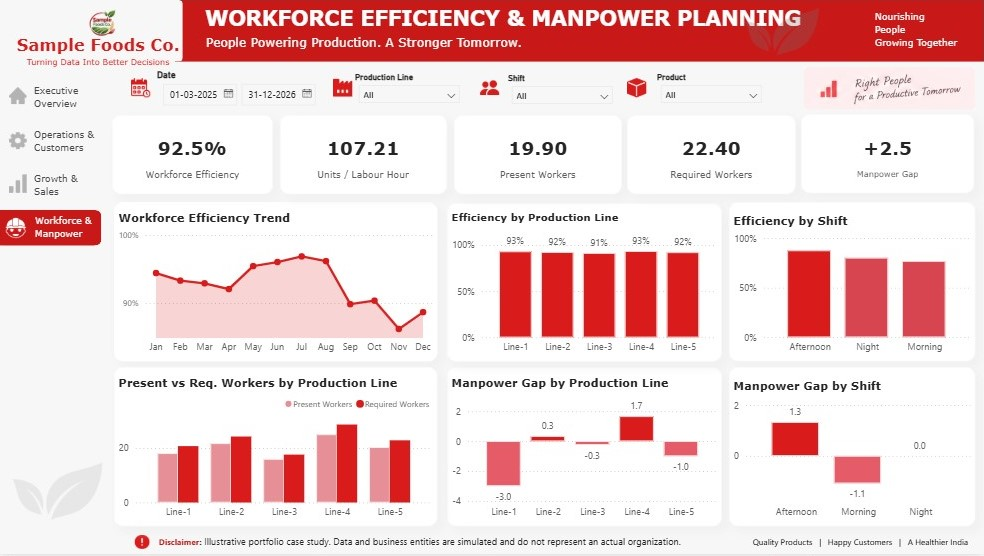

The dashboard page shown, as its layout file describes it:
{"tool":"powerbi","page":{"name":"WORKFORCE EFFICIENCY & MANPOWER PLANNING","canvas":[1280,720],"ordinal":3},"visuals":[{"type":"textbox","title":"Shanti Foods","box":[10,37.5,239.5,39.9],"z":0,"group":"g10"},{"type":"slicer","title":"Date","fields":{"Values":["Date_Table.Date"]},"box":[206.4,91.3,230,51.8],"z":0,"group":"g7"},{"type":"slicer","title":"Production Line","fields":{"Values":["Workforce_Data.Production_Line"]},"box":[463.6,92.9,141.4,50.7],"z":0,"group":"g6"},{"type":"slicer","title":"Product","fields":{"Values":["Workforce_Data.Product_Name"]},"box":[856.4,92.9,141.4,50.7],"z":0,"group":"g8"},{"type":"slicer","title":"Shift","fields":{"Values":["Workforce_Data.Shift"]},"box":[662.9,94.3,141.4,50.7],"z":0,"group":"g5"},{"type":"shape","title":"Side_Button_1_Cover","box":[0,103,125.1,46],"z":0,"group":"g3"},{"type":"shape","title":"Side_Button_1_Cover","box":[0,160.9,125.1,46],"z":0,"group":"g2"},{"type":"shape","title":"Side_Button_1_Cover","box":[0,216.8,125.1,46],"z":0,"group":"g1"},{"type":"shape","title":"Side_Button_1_Cover","box":[0,272.7,125.1,46],"z":0,"group":"g9"},{"type":"clusteredColumnChart","title":"Manpower Gap by Production Line","fields":{"Category":["Workforce_Data.Production_Line"],"Y":["Complaints_Returns.Avg Manpower Gap"]},"box":[583.3,476.7,356.7,206.7],"z":0},{"type":"textbox","box":[204,688.7,792,29.3],"z":0,"group":"g4"},{"type":"shape","title":"Tittle_L","box":[229.3,0,1050.7,80],"z":1000},{"type":"textbox","title":"Tagline","box":[10,62.3,239.5,30.3],"z":1000,"group":"g10"},{"type":"shape","title":"Side_Button_1","box":[0,102.8,134.4,46.1],"z":1000,"group":"g3"},{"type":"shape","title":"Side_Button_1","box":[0,160.7,134.4,46.1],"z":1000,"group":"g2"},{"type":"shape","title":"Side_Button_1","box":[0,216.6,134.4,46.1],"z":1000,"group":"g1"},{"type":"shape","title":"Side_Button_1","box":[0,272.5,134.4,46.1],"z":1000,"group":"g9"},{"type":"image","box":[163.4,695.8,46.9,18.5],"z":1000,"group":"g4"},{"type":"shape","title":"Title_S","box":[0,0,240,80],"z":2000},{"type":"image","title":"Logoo","box":[110,10,50.4,36.8],"z":2000,"group":"g10"},{"type":"image","title":"Homo_logo","box":[14,105.8,22.8,38],"z":2000,"group":"g3"},{"type":"image","title":"Setting_logo","box":[14,163.7,22.8,38],"z":2000,"group":"g2"},{"type":"image","title":"Signal_logo","box":[14,219.6,22.8,38],"z":2000,"group":"g1"},{"type":"image","title":"Signal_logo","box":[9.3,270.4,27.9,52.1],"z":2000,"group":"g9"},{"type":"textbox","title":"Exec_text","box":[47.3,108.5,69.7,35.2],"z":3000,"group":"g3"},{"type":"textbox","title":"Ops/ customer text","box":[46.9,165.2,79.5,36.4],"z":3000,"group":"g2"},{"type":"group","id":"g1","title":"Side Button 3","box":[0,216.6,134.5,46.2],"z":3000},{"type":"textbox","title":"Growth/Sales text","box":[47.3,222.3,69.7,35.2],"z":3000,"group":"g1"},{"type":"textbox","title":"Growth/Sales text","box":[47.9,277.3,87.1,35],"z":3000,"group":"g9"},{"type":"group","id":"g2","title":"Side Button 2","box":[0,160.7,134.1,46.2],"z":4000},{"type":"group","id":"g3","title":"Side Button 1","box":[0,102.8,134.4,46.2],"z":5000},{"type":"textbox","title":"Header Tagline 1","box":[268.3,6.7,865,41.7],"z":6000},{"type":"textbox","title":"Header Title 1","box":[270,45.6,523.3,22.2],"z":7000},{"type":"textbox","title":"Header Sideline 1","box":[1138.7,12,130,55.3],"z":8000},{"type":"cardVisual","title":"Total Production","fields":{"Data":["Complaints_Returns.New_Workforce Efficiency %"]},"box":[147.5,149,209.2,103],"z":9000},{"type":"lineChart","title":"Workforce Efficiency Trend","fields":{"Category":["Date_Table.Month_Short"],"Y":["Complaints_Returns.Workforce Efficiency %"]},"box":[150,262.2,420,206.7],"z":10000},{"type":"clusteredColumnChart","title":"Efficiency by Production Line","fields":{"Category":["Workforce_Data.Production_Line"],"Y":["Complaints_Returns.New_Workforce Efficiency %"]},"box":[583.3,263.3,356.7,205.6],"z":11000},{"type":"cardVisual","title":"Rejection Rate","fields":{"Data":["Complaints_Returns.Units per Labour Hour"]},"box":[366.7,149,216.7,103],"z":12000},{"type":"cardVisual","title":"Total Inventory","fields":{"Data":["Complaints_Returns.Avg Present Workers"]},"box":[591.7,149,218.3,103],"z":13000},{"type":"cardVisual","title":"Total Complaints","fields":{"Data":["Complaints_Returns.Avg Required Workers_new"]},"box":[816.7,149,219.2,103],"z":14000},{"type":"cardVisual","title":"Customer","fields":{"Data":["Complaints_Returns.Manpower Gap Display"]},"box":[1043.3,148.3,225,103.3],"z":15000},{"type":"clusteredColumnChart","title":"Efficiency by Shift","fields":{"Category":["Workforce_Data.Shift"],"Y":["Complaints_Returns.New_Workforce Efficiency %"]},"box":[948.9,262.2,320,206.7],"z":16000},{"type":"textbox","title":"Footer","box":[971.4,688.6,297.1,31.4],"z":17000},{"type":"group","id":"g4","title":"Group 1","box":[163.4,688.7,832.6,29.3],"z":18000},{"type":"group","id":"g5","title":"Slicer 3","box":[662.9,94.3,141.4,50.7],"z":19000},{"type":"group","id":"g6","title":"Slicer 2","box":[463.6,92.9,141.4,50.7],"z":20000},{"type":"group","id":"g7","title":"Slicer 1","box":[206.4,91.3,230,51.8],"z":21000},{"type":"group","id":"g8","title":"Slicer 3","box":[856.4,92.9,141.4,50.7],"z":22000},{"type":"clusteredColumnChart","title":"Present vs Req. Workers by Production Line","fields":{"Category":["Workforce_Data.Production_Line"],"Y":["Complaints_Returns.Avg Present Workers","Complaints_Returns.Avg Required Workers_new"]},"box":[150,476.7,420,206.7],"z":23000},{"type":"clusteredColumnChart","title":"Manpower Gap by Shift","fields":{"Category":["Workforce_Data.Shift"],"Y":["Complaints_Returns.Avg Manpower Gap"]},"box":[948.9,476.7,320,206.7],"z":24000},{"type":"image","title":"Quote img","box":[1047,57,222,115],"z":25000},{"type":"group","id":"g9","title":"Side Button 4","box":[0,270.4,135,52.1],"z":26000},{"type":"image","box":[172.3,97.7,25,33],"z":27000},{"type":"image","box":[434.6,97.7,25,33],"z":28000},{"type":"image","box":[625.4,97.7,25,33],"z":29000},{"type":"image","box":[816.9,97.7,25,33],"z":30000},{"type":"image","title":"Bird","box":[0,555,150,165],"z":31000},{"type":"image","title":"Bird","box":[941.7,0,150,81.7],"z":32000},{"type":"group","id":"g10","title":"TOP LOGO","box":[10,10,239.5,82.6],"z":33000}]}

Visuals, with their boxes on the page's 1280x720 design canvas (x1, y1, x2, y2). These are canvas units, not pixel positions in the 984x556 screenshot, which may show the page scaled, cropped or inside an application window:
"Shanti Foods" textbox: 10/38/250/77
"Date" slicer: 206/91/436/143
"Production Line" slicer: 464/93/605/144
"Product" slicer: 856/93/998/144
"Shift" slicer: 663/94/804/145
"Side_Button_1_Cover" shape: 0/103/125/149
"Side_Button_1_Cover" shape: 0/161/125/207
"Side_Button_1_Cover" shape: 0/217/125/263
"Side_Button_1_Cover" shape: 0/273/125/319
"Manpower Gap by Production Line" clusteredColumnChart: 583/477/940/683
textbox: 204/689/996/718
"Tittle_L" shape: 229/0/1280/80
"Tagline" textbox: 10/62/250/93
"Side_Button_1" shape: 0/103/134/149
"Side_Button_1" shape: 0/161/134/207
"Side_Button_1" shape: 0/217/134/263
"Side_Button_1" shape: 0/272/134/319
image: 163/696/210/714
"Title_S" shape: 0/0/240/80
"Logoo" image: 110/10/160/47
"Homo_logo" image: 14/106/37/144
"Setting_logo" image: 14/164/37/202
"Signal_logo" image: 14/220/37/258
"Signal_logo" image: 9/270/37/322
"Exec_text" textbox: 47/108/117/144
"Ops/ customer text" textbox: 47/165/126/202
"Side Button 3" group: 0/217/134/263
"Growth/Sales text" textbox: 47/222/117/258
"Growth/Sales text" textbox: 48/277/135/312
"Side Button 2" group: 0/161/134/207
"Side Button 1" group: 0/103/134/149
"Header Tagline 1" textbox: 268/7/1133/48
"Header Title 1" textbox: 270/46/793/68
"Header Sideline 1" textbox: 1139/12/1269/67
"Total Production" cardVisual: 148/149/357/252
"Workforce Efficiency Trend" lineChart: 150/262/570/469
"Efficiency by Production Line" clusteredColumnChart: 583/263/940/469
"Rejection Rate" cardVisual: 367/149/583/252
"Total Inventory" cardVisual: 592/149/810/252
"Total Complaints" cardVisual: 817/149/1036/252
"Customer" cardVisual: 1043/148/1268/252
"Efficiency by Shift" clusteredColumnChart: 949/262/1269/469
"Footer" textbox: 971/689/1268/720
"Group 1" group: 163/689/996/718
"Slicer 3" group: 663/94/804/145
"Slicer 2" group: 464/93/605/144
"Slicer 1" group: 206/91/436/143
"Slicer 3" group: 856/93/998/144
"Present vs Req. Workers by Production Line" clusteredColumnChart: 150/477/570/683
"Manpower Gap by Shift" clusteredColumnChart: 949/477/1269/683
"Quote img" image: 1047/57/1269/172
"Side Button 4" group: 0/270/135/322
image: 172/98/197/131
image: 435/98/460/131
image: 625/98/650/131
image: 817/98/842/131
"Bird" image: 0/555/150/720
"Bird" image: 942/0/1092/82
"TOP LOGO" group: 10/10/250/93
